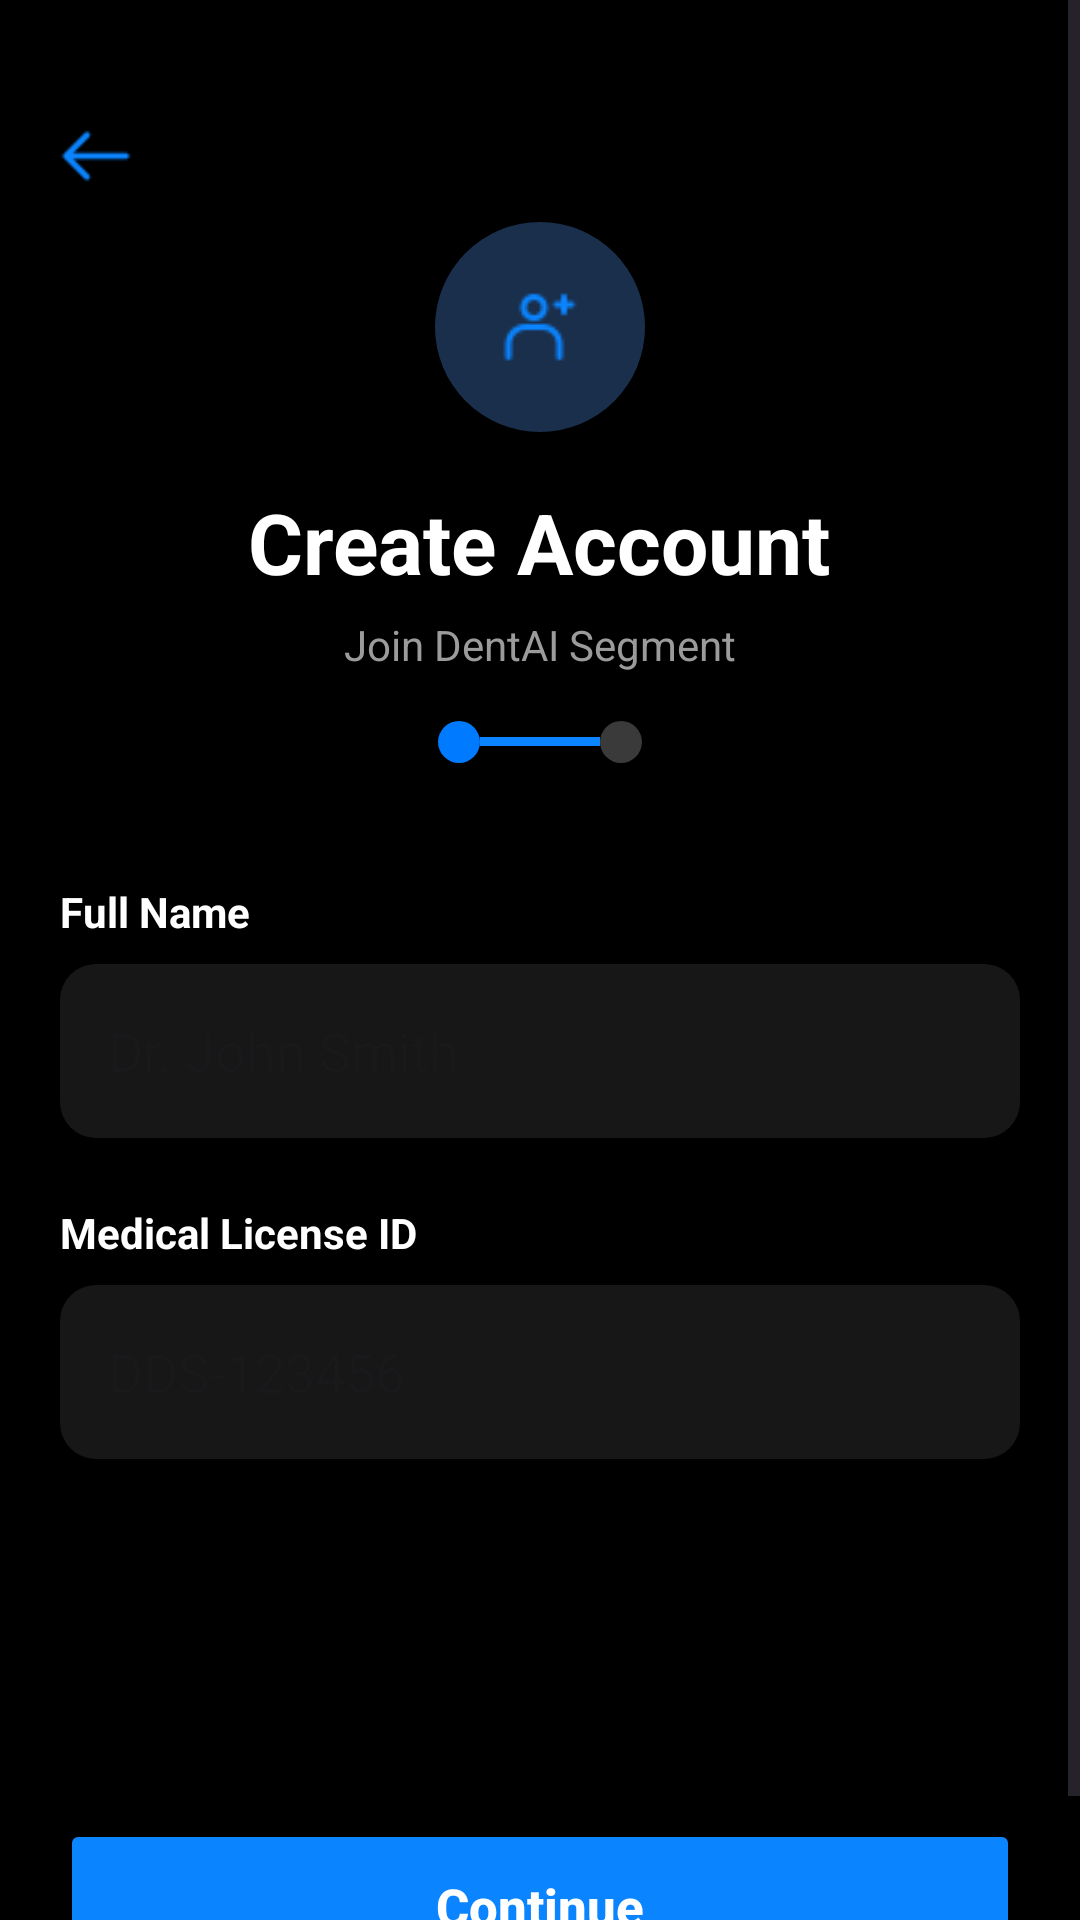

Icon click points for this 1080×1920 phone screenshot, format point (x, y):
add friend: point (539, 327)
back: point (96, 156)
